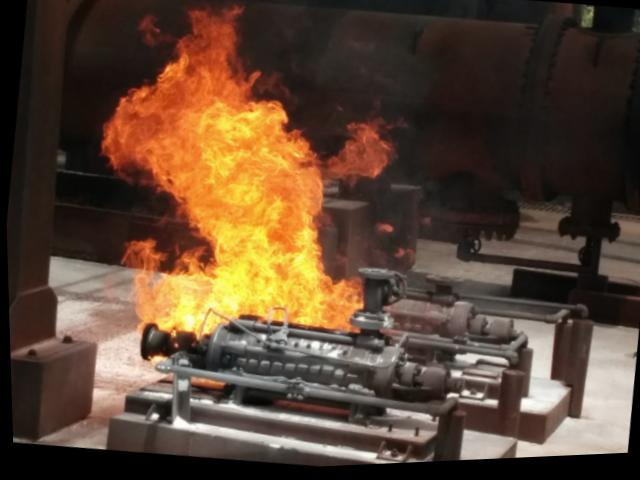fire: (67, 0, 422, 392)
